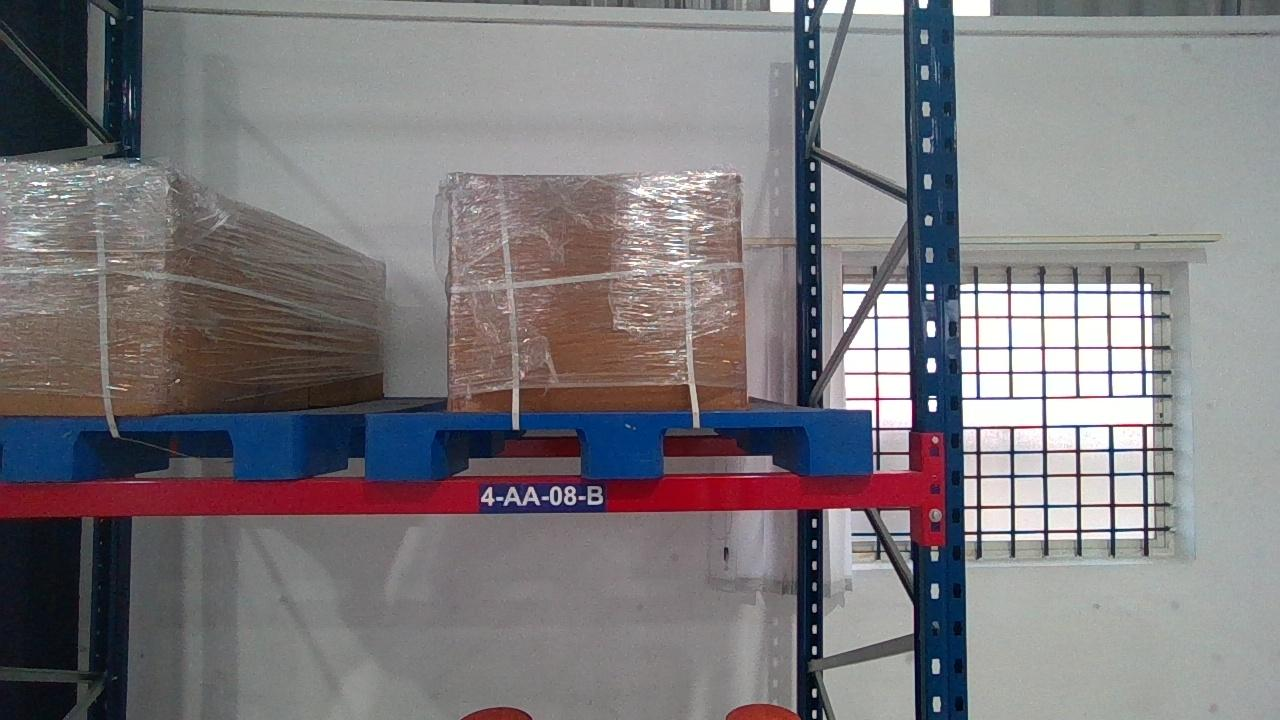h_rack: (3, 474, 924, 515)
small_pallet: (364, 408, 876, 473), (1, 412, 288, 475)
